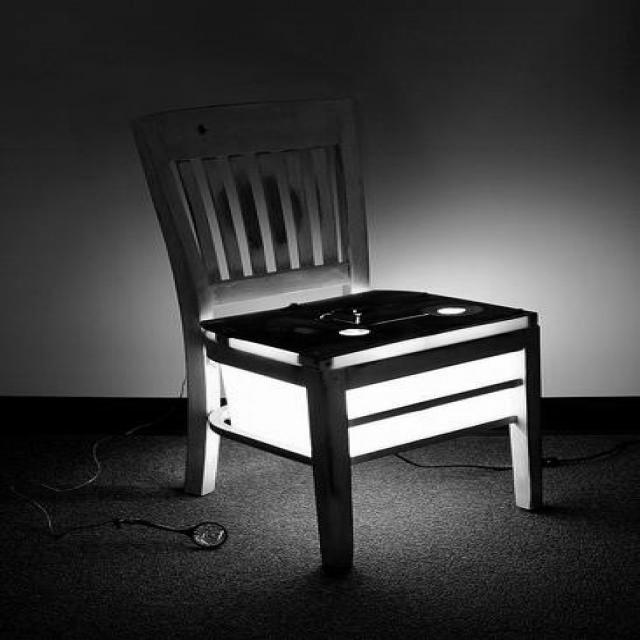chair: (130, 96, 550, 574)
